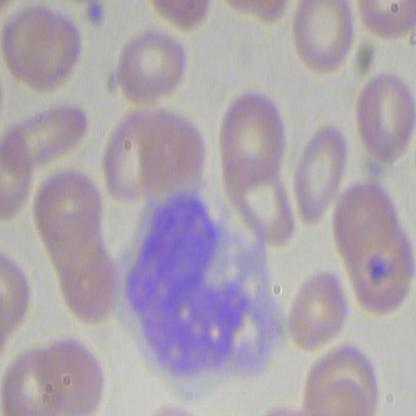RBC: (216, 84, 284, 186), (0, 96, 90, 172), (224, 155, 298, 244), (112, 26, 192, 108), (290, 0, 359, 95), (34, 328, 110, 414), (358, 63, 416, 167), (291, 122, 349, 224), (290, 253, 348, 355)
WBC: (112, 186, 288, 390)
